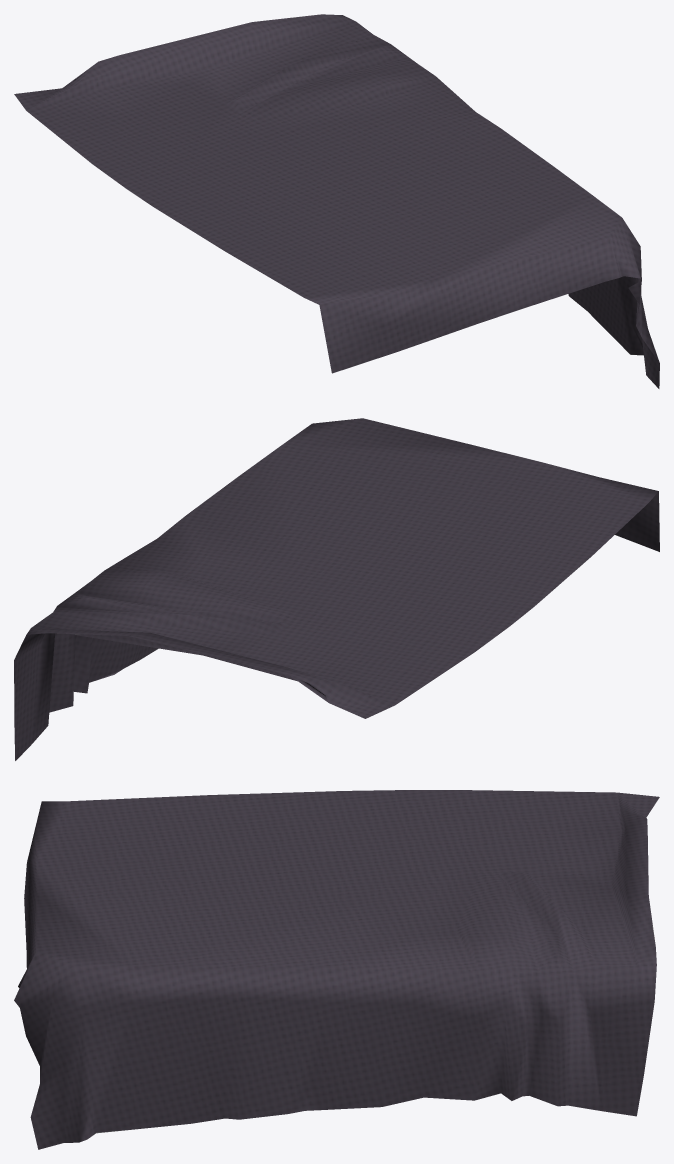
The model's file is SM_prop_Laboratory_Blenket.fbx.
3 renders of one model, top to bottom at view 1: azimuth 30°, elevation 25°; view 2: azimuth 150°, elevation 25°; view 3: azimuth 270°, elevation 25°, orthographic. The views are drawn at different scales.
Parts seen in each view (by area): view 1: SM_prop_Laboratory_Blenket_low; view 2: SM_prop_Laboratory_Blenket_low; view 3: SM_prop_Laboratory_Blenket_low.
Part boxes in pixels (x1,y1,x2,y2): SM_prop_Laboratory_Blenket_low: [14, 14, 659, 388]; SM_prop_Laboratory_Blenket_low: [14, 418, 659, 760]; SM_prop_Laboratory_Blenket_low: [14, 790, 659, 1149].
Size of the model in its own units: 104 by 48.48 by 147.
1 material, 1 textured.
